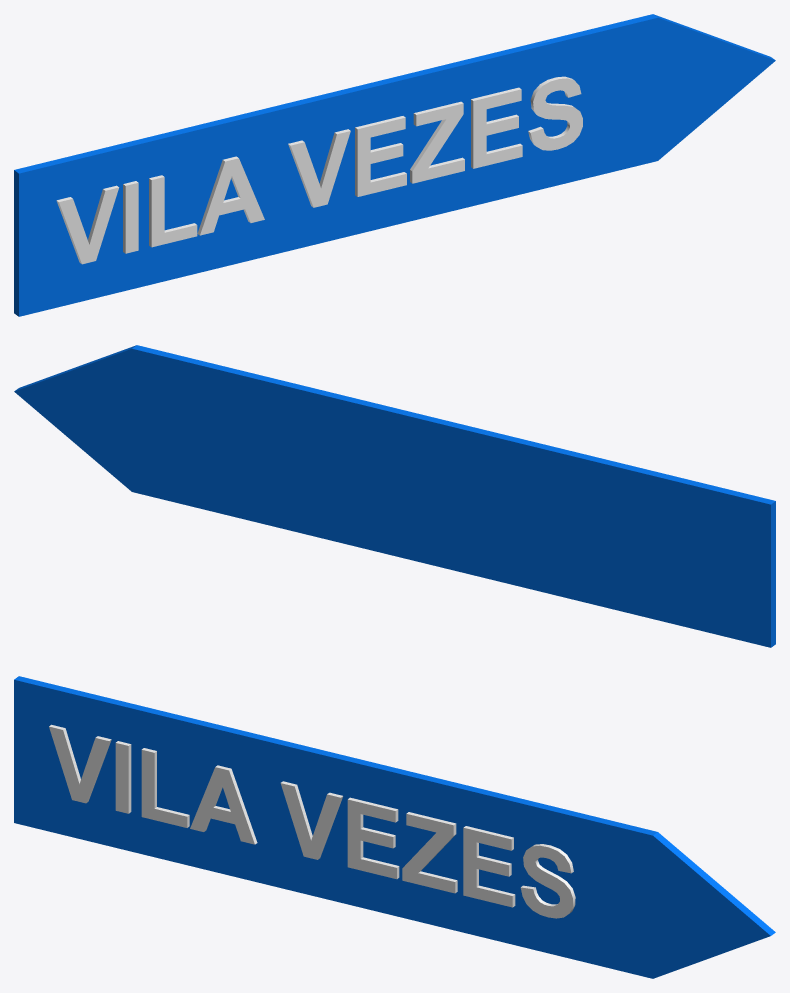
File: placa Vila Vezes-2.fbx
The picture shows the model from 3 angles, top to bottom: view 1: azimuth 30°, elevation 25°; view 2: azimuth 150°, elevation 25°; view 3: azimuth 330°, elevation 25°; orthographic projection.
Visible parts, largest first — view 1: vila vezes; view 2: vila vezes; view 3: vila vezes.
Part boxes in pixels (bbox=[...]): vila vezes: bbox=[14, 14, 775, 316]; vila vezes: bbox=[14, 345, 775, 647]; vila vezes: bbox=[14, 676, 775, 978].
Size of the model in its own units: 1750 by 317 by 30.
